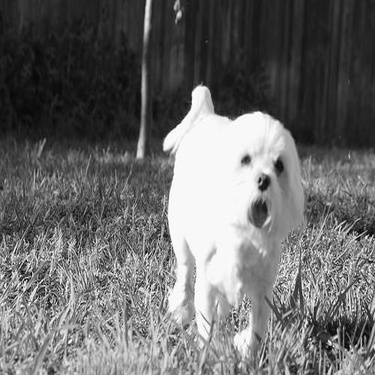dog: (152, 69, 311, 367)
